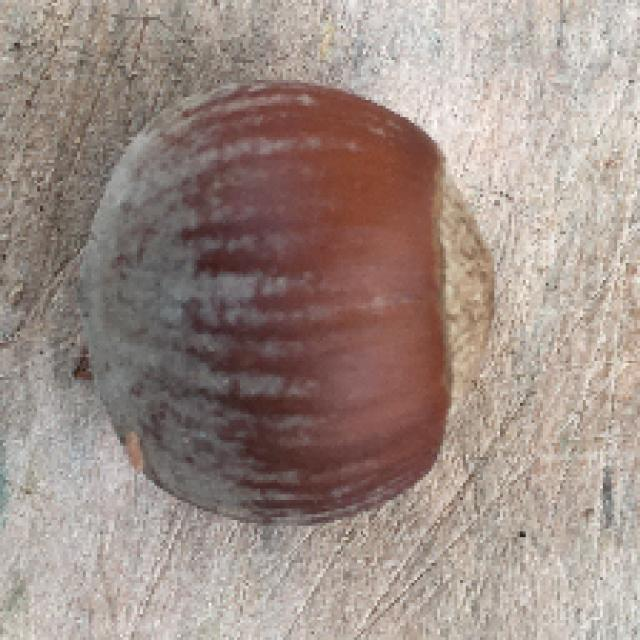qualityHazelnut: (66, 80, 509, 526)
